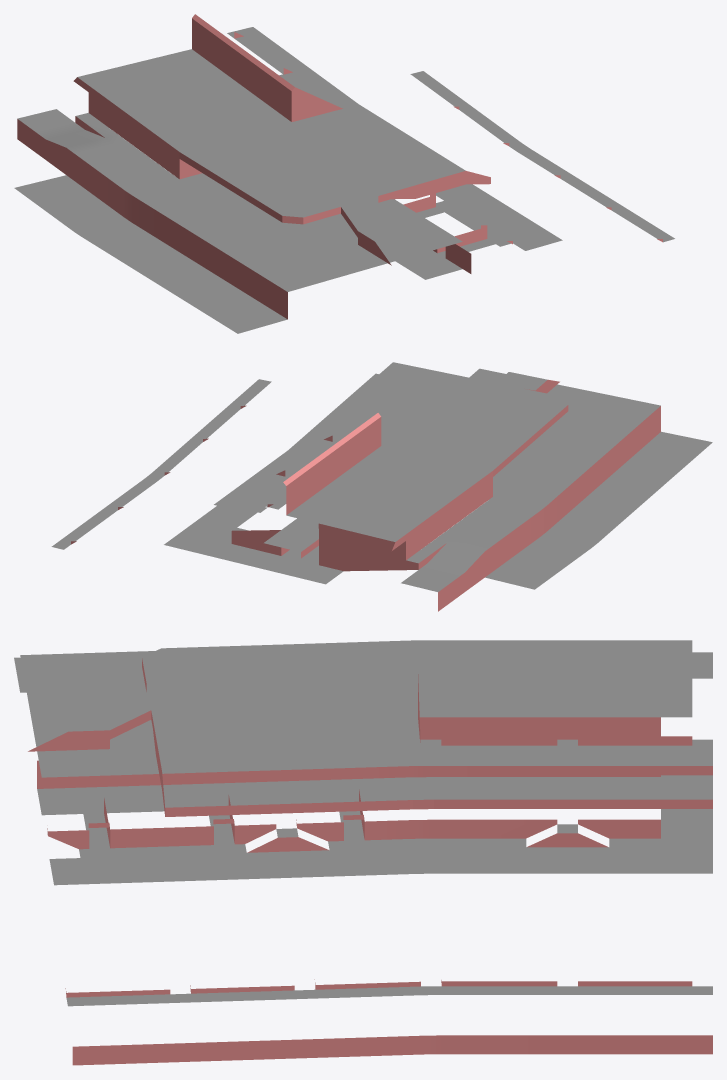
3 views of the same model, one above another, from view 1: azimuth 30°, elevation 25°; view 2: azimuth 150°, elevation 25°; view 3: azimuth 270°, elevation 25° (orthographic). The views are drawn at different scales.
Visible parts, largest first — view 1: Base_08; view 2: Base_08; view 3: Base_08.
Boxes of the visible parts, left/top/right/bottom form: Base_08: left=14, top=14, right=674, bottom=333; Base_08: left=51, top=362, right=712, bottom=611; Base_08: left=14, top=640, right=712, bottom=1065.
Bounding box in the file's own units: 101 × 26.88 × 86.2.
